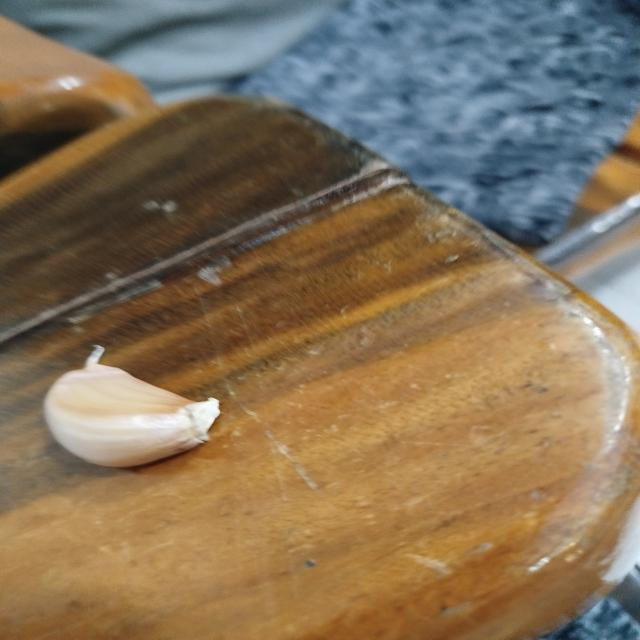garlic: (42, 344, 221, 468)
